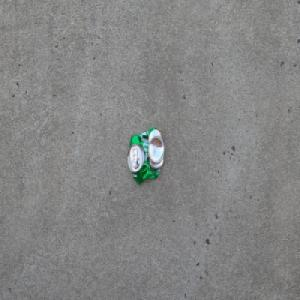SodaCan: (127, 125, 164, 185)
